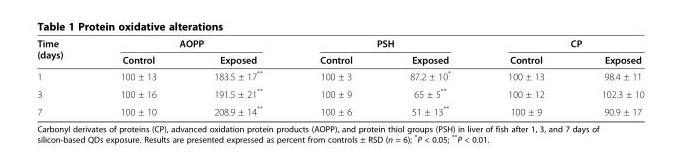table: (36, 37, 643, 117)
table column: (184, 37, 290, 117), (380, 37, 478, 117), (478, 37, 572, 117), (91, 37, 184, 117), (290, 37, 380, 117), (572, 37, 643, 117), (36, 37, 91, 117)
table column header: (36, 37, 643, 67)
table row: (36, 67, 643, 84), (36, 84, 643, 101), (36, 51, 643, 67), (36, 101, 643, 117), (36, 37, 643, 51)
table spanning cell: (91, 37, 290, 51), (290, 37, 478, 51), (478, 37, 643, 51), (36, 37, 91, 67)
